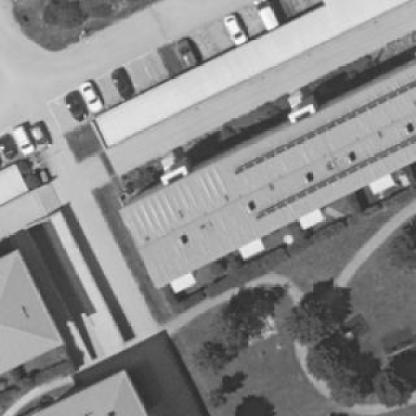solar-pv-panel: (233, 80, 416, 175), (255, 137, 416, 219)
